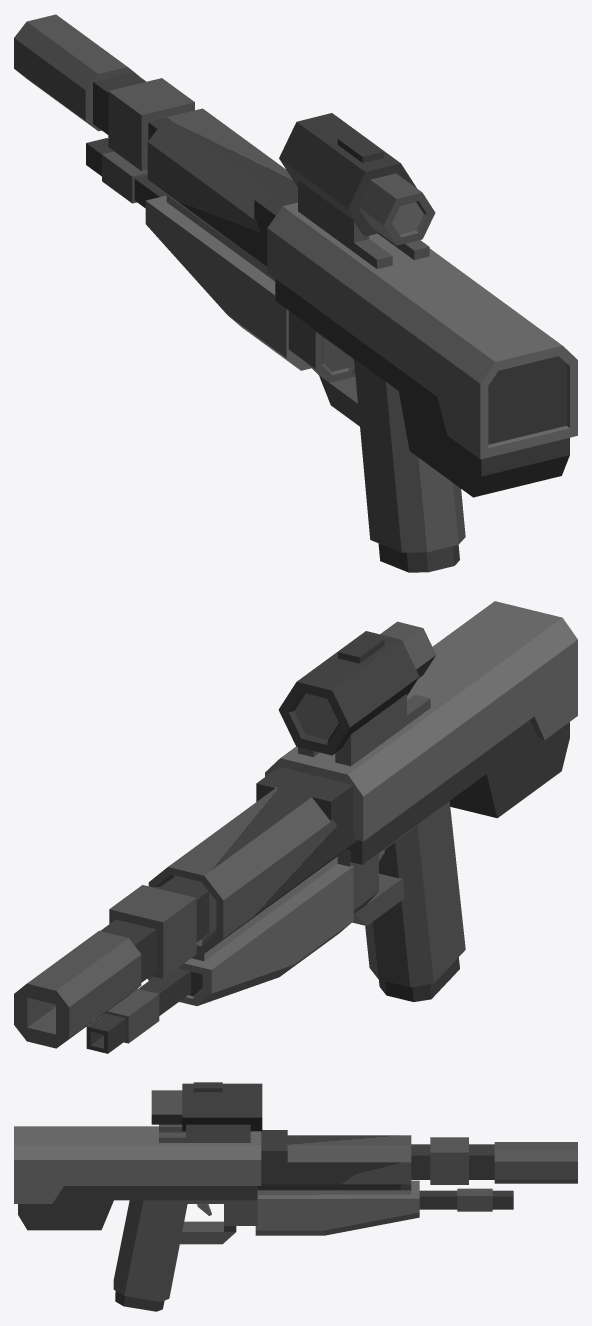
Rendered from subfusil_7.glb.
The picture shows the model from 3 angles, top to bottom: view 1: azimuth 30°, elevation 25°; view 2: azimuth 150°, elevation 25°; view 3: azimuth 270°, elevation 25°; orthographic projection. The views are drawn at different scales.
Parts seen in each view (by area): view 1: subfusil_7, subfusil_scope_7, subfusil_charguer_7; view 2: subfusil_7, subfusil_scope_7, subfusil_charguer_7; view 3: subfusil_7, subfusil_scope_7, subfusil_charguer_7.
Part boxes in pixels (box(x1,y1,x2,y2)): subfusil_7: box(14, 14, 577, 552); subfusil_scope_7: box(279, 113, 435, 269); subfusil_charguer_7: box(378, 543, 459, 572); subfusil_7: box(14, 601, 577, 1053); subfusil_scope_7: box(278, 621, 435, 766); subfusil_charguer_7: box(379, 957, 459, 1001); subfusil_7: box(14, 1126, 577, 1301); subfusil_scope_7: box(151, 1082, 262, 1142); subfusil_charguer_7: box(115, 1291, 164, 1311).
Bounding box in the file's own units: 0.2731 × 1.01 × 2.35.
1 material, 1 textured.
